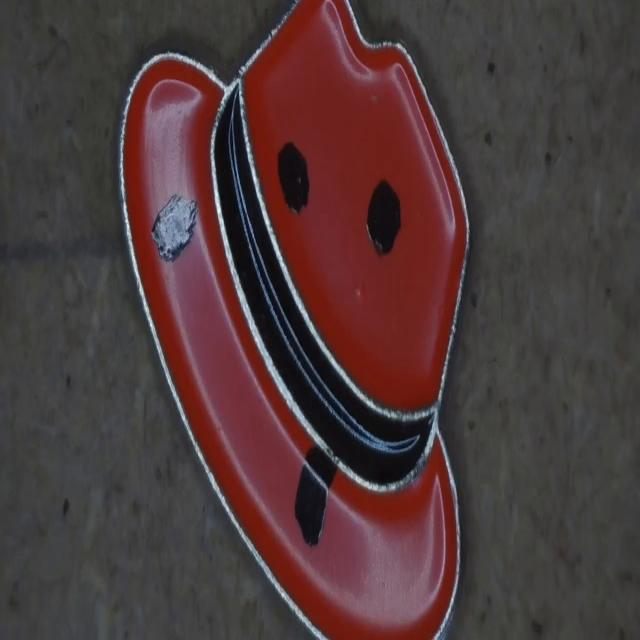Hatband: (214, 89, 436, 494)
Paint_Leak: (295, 453, 338, 552), (152, 200, 197, 267), (368, 187, 401, 260), (279, 149, 310, 217)
RedHatPin: (121, 0, 469, 638)
